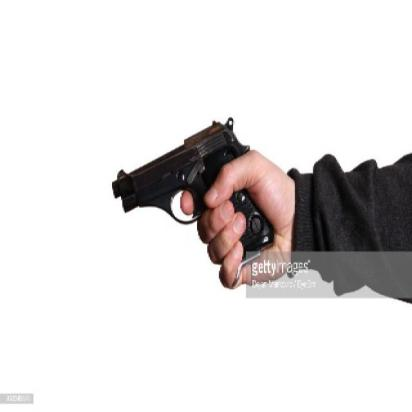Gun: (106, 115, 276, 254)
